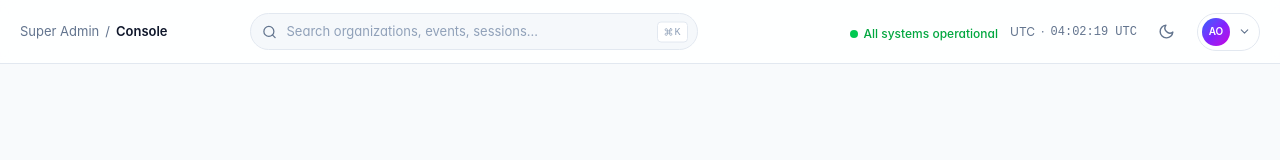
Test: the empty state echoes the whole query › keeps the final character — the reported symptom
Type "pppplll" into the field named "Search organizations, events and sessions".
click(474, 32); type("pppplll")  # box x1=250 y1=13 x2=698 y2=50
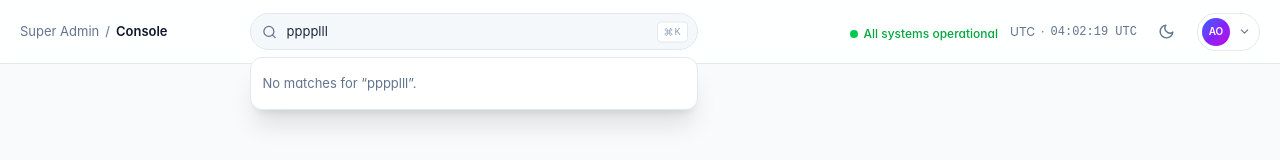
Expected: the text "No matches for “pppplll”." is shown, x1=262 y1=75 x2=416 y2=91
